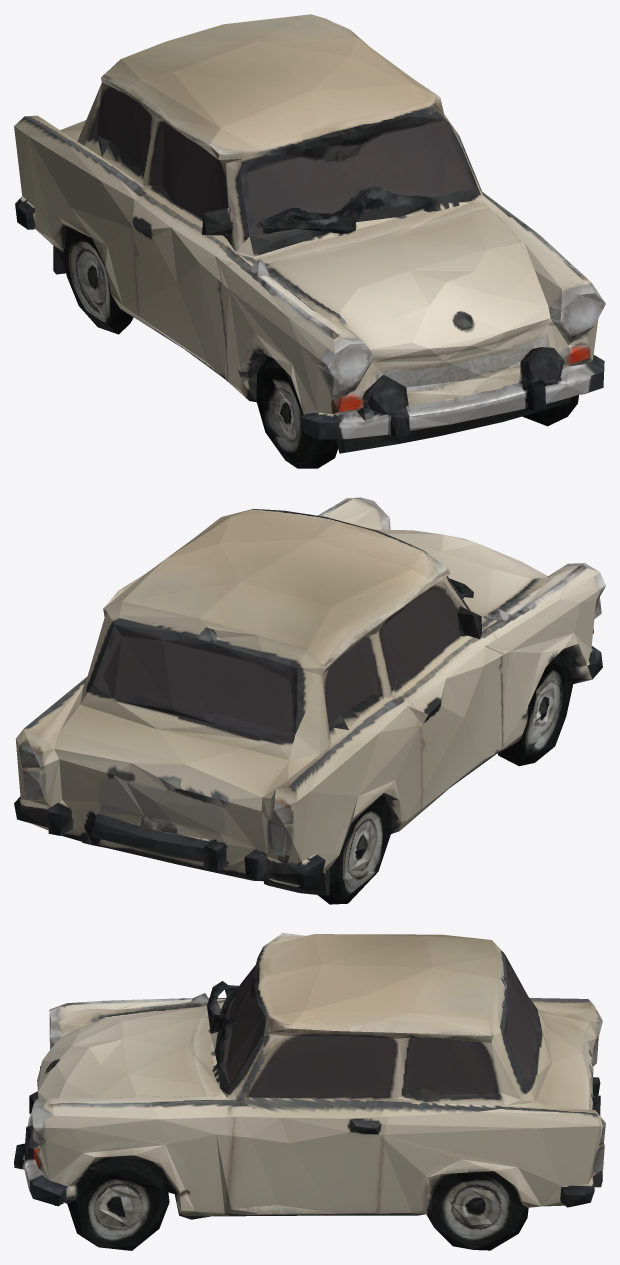
Rendered from trabant_lod.fbx.
The picture shows the model from 3 angles, top to bottom: view 1: azimuth 30°, elevation 25°; view 2: azimuth 150°, elevation 25°; view 3: azimuth 270°, elevation 25°; orthographic projection. The views are drawn at different scales.
Parts seen in each view (by area): view 1: Mesh_0; view 2: Mesh_0; view 3: Mesh_0.
Part boxes in pixels (x1,y1,x2,y2): Mesh_0: (14, 14, 605, 468); Mesh_0: (14, 497, 605, 904); Mesh_0: (14, 933, 605, 1250).
Size of the model in its own units: 1.67 by 1.44 by 3.26.
Materials: 1 (1 with a texture image).
